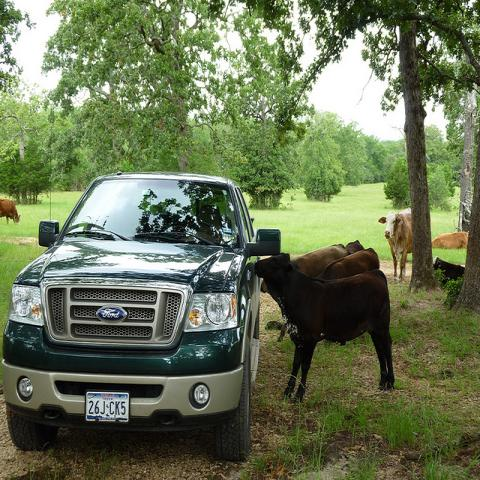car: (0, 175, 283, 464)
